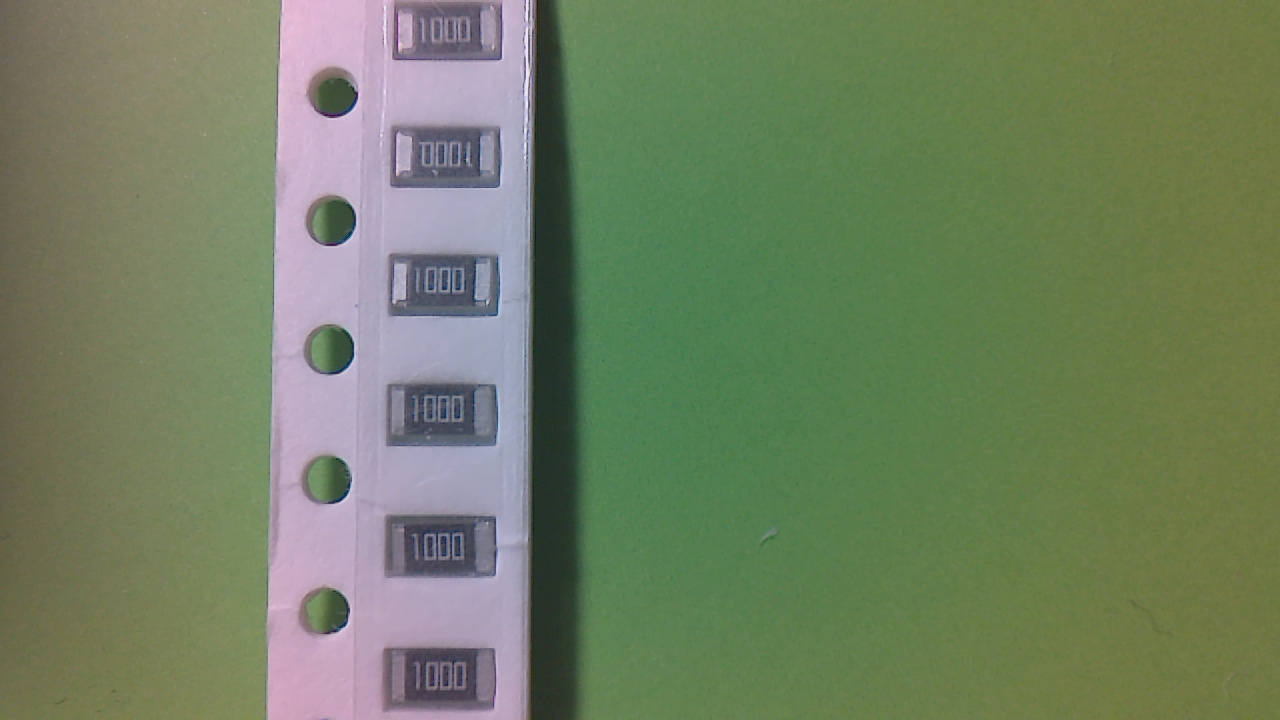Resistor: (398, 131, 505, 195), (389, 655, 500, 713), (396, 260, 502, 319), (397, 12, 506, 68), (395, 390, 499, 447), (395, 524, 498, 580)
